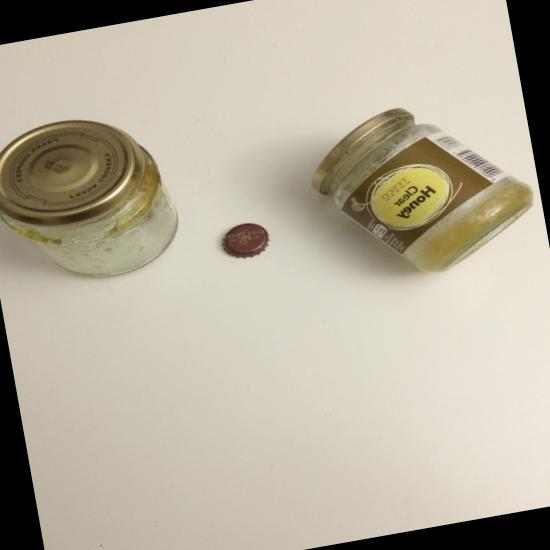Glass jar: (310, 107, 533, 272), (0, 120, 178, 276)
Metal bottle cap: (221, 223, 269, 258)
Metal lid: (0, 119, 145, 227), (311, 108, 413, 194)
